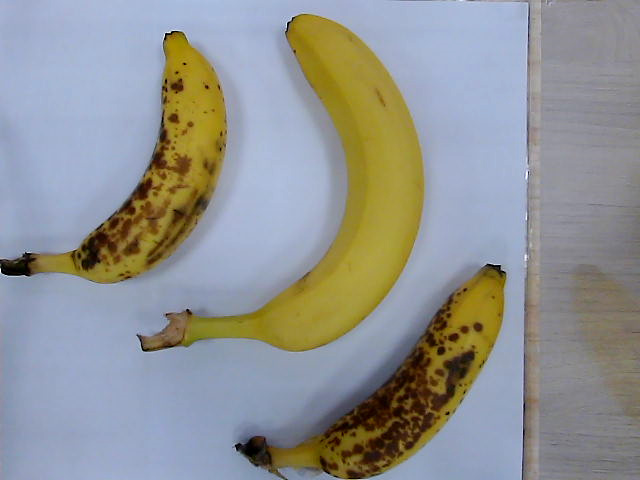fresh_banana: (149, 17, 425, 352)
rotten_banana: (1, 30, 227, 284), (241, 268, 506, 480)
